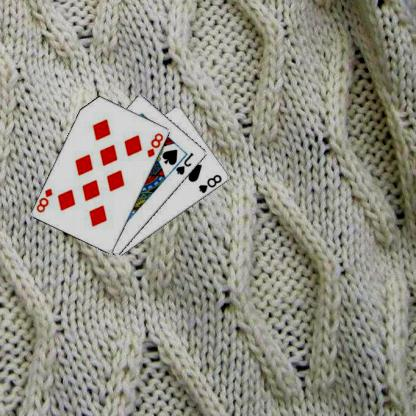8D: (146, 130, 166, 158), (36, 186, 55, 214)
8S: (198, 172, 225, 195)
JS: (175, 150, 196, 176)
